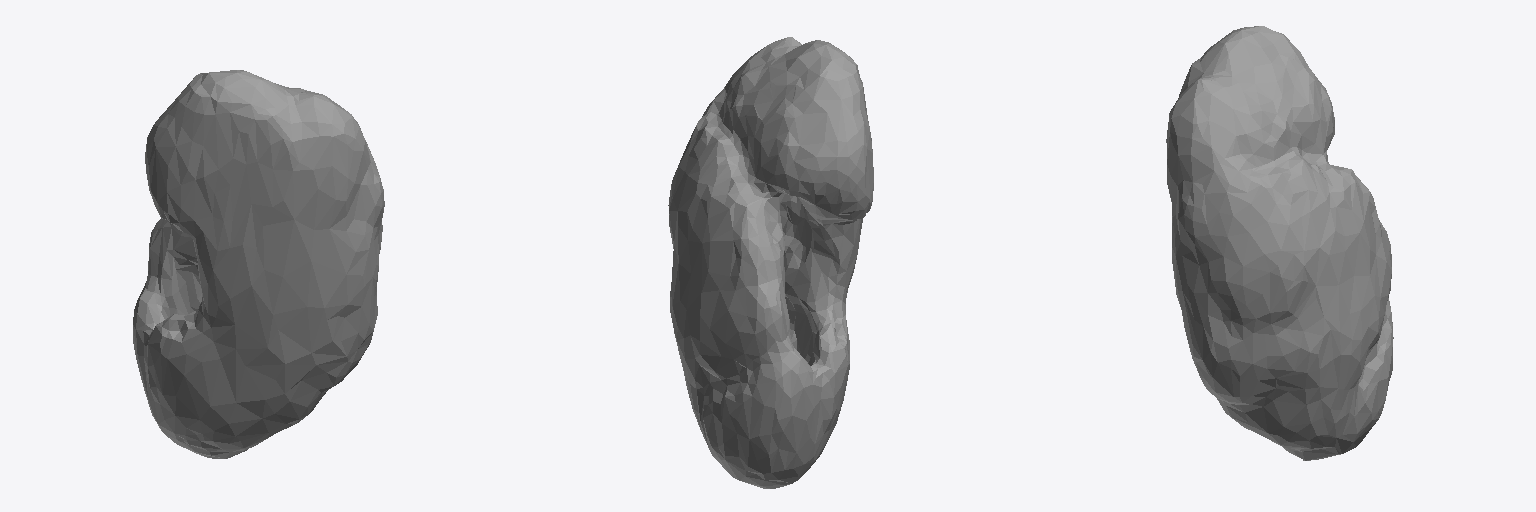
The model's file is KV1_KidneyRight_reduced.obj.
3 renders of one model, left to right at view 1: azimuth 30°, elevation 25°; view 2: azimuth 150°, elevation 25°; view 3: azimuth 270°, elevation 25°, orthographic.
Visible parts, largest first — view 1: CortexRight_Bladder_combo.001; view 2: CortexRight_Bladder_combo.001; view 3: CortexRight_Bladder_combo.001.
Part boxes in pixels (x1,y1,x2,y2): CortexRight_Bladder_combo.001: (133,70,384,458); CortexRight_Bladder_combo.001: (668,37,873,488); CortexRight_Bladder_combo.001: (1166,26,1393,460).
Size of the model in its own units: 57.75 by 112 by 55.62.